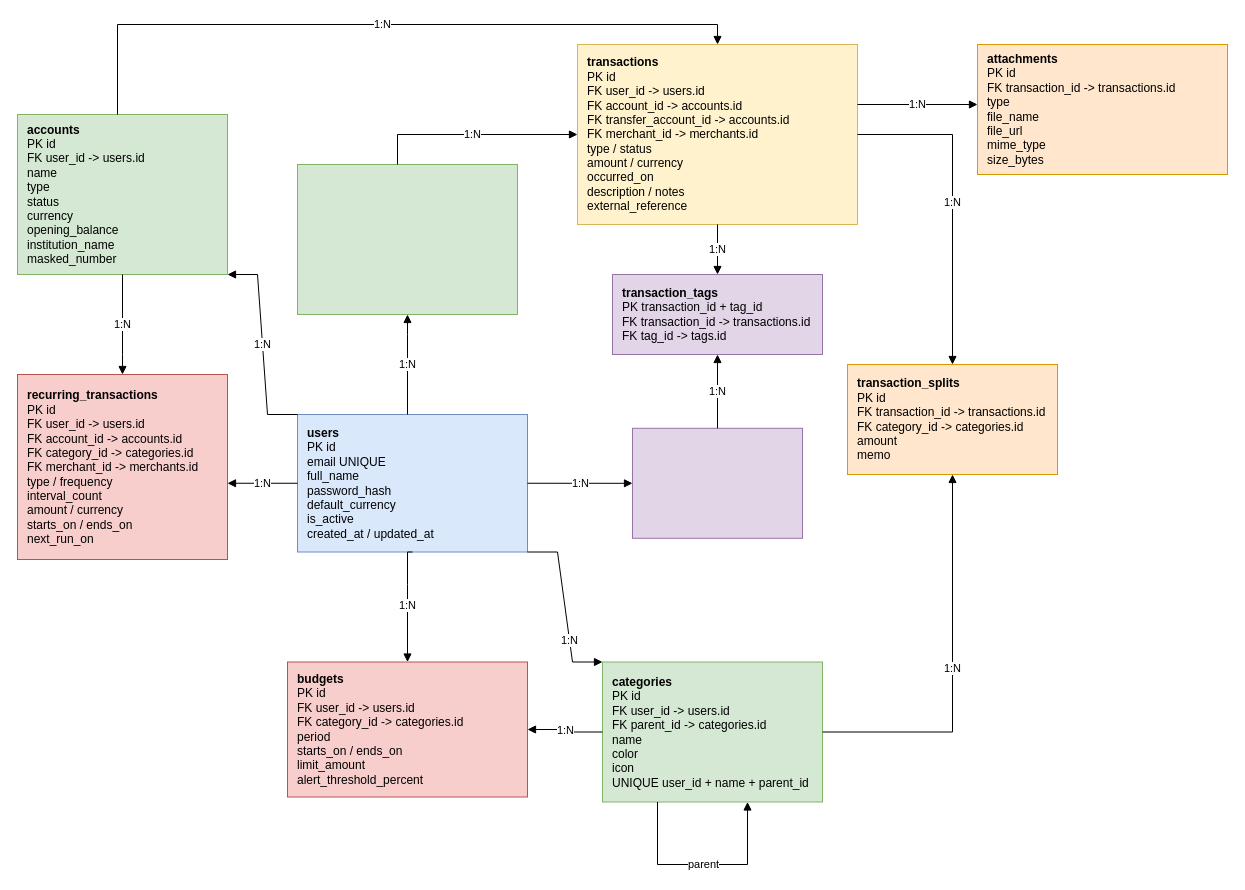
Image size: 1245x890. Some labels were removed from this diagram. The centre of each missing label's shape, as x and y in pixels:
merchants PK id FK user_id -> users.id name website notes UNIQUE user_id + name: (x=407, y=239)
tags PK id FK user_id -> users.id name color UNIQUE user_id + name: (x=717, y=482)
